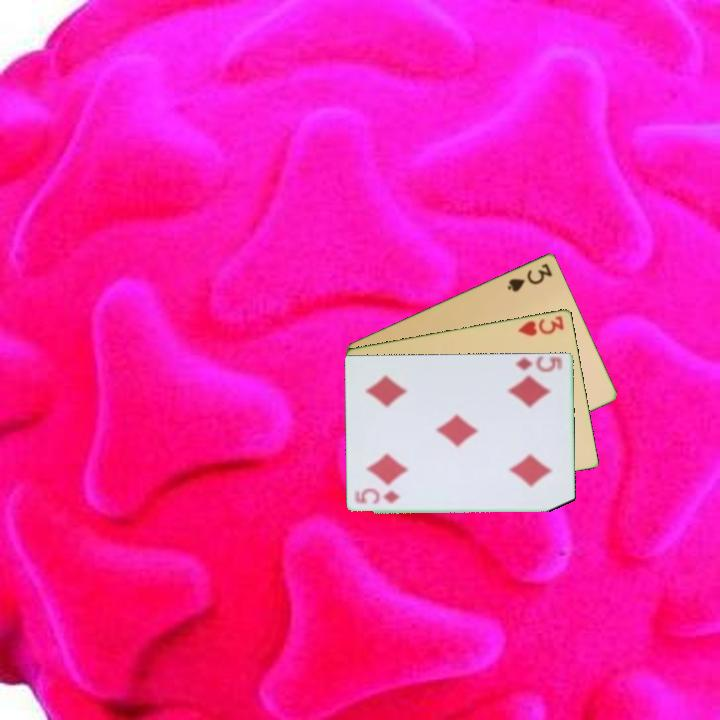3h: (514, 312, 567, 339)
3s: (504, 259, 555, 294)
5d: (512, 353, 566, 375), (352, 489, 403, 507)
